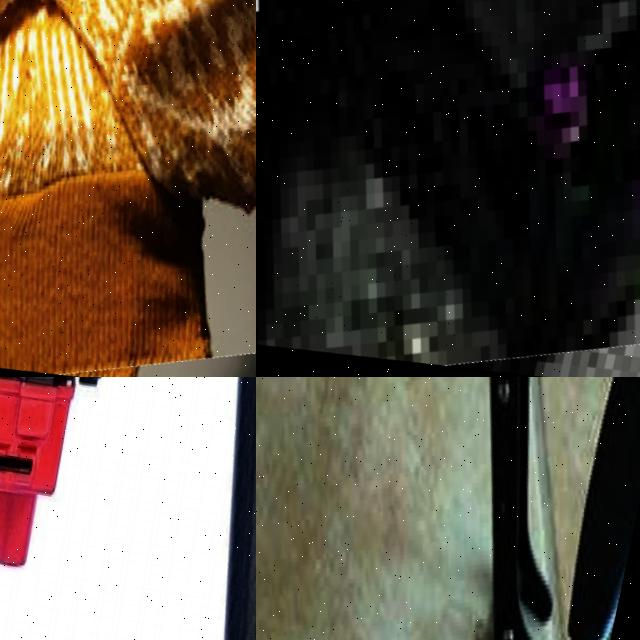drone: (256, 0, 640, 377), (256, 377, 640, 640), (0, 0, 256, 377)
